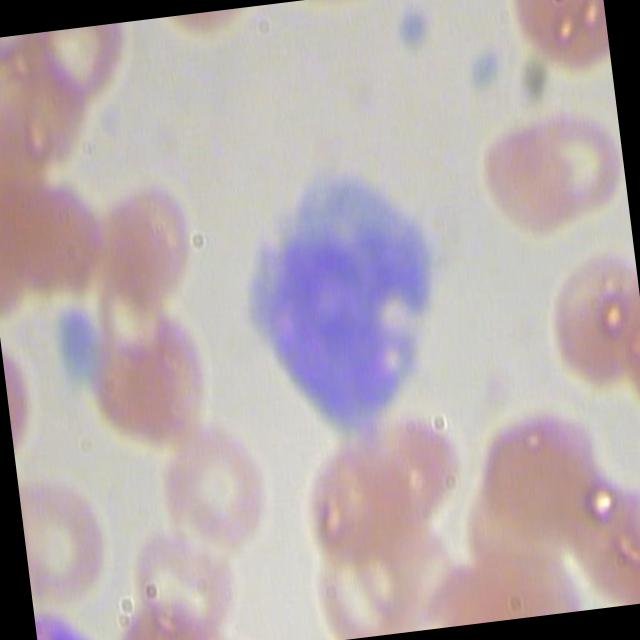Platelets: (455, 36, 506, 93), (44, 302, 94, 358), (389, 0, 440, 54)
RBC: (342, 400, 486, 566), (268, 420, 410, 586), (438, 106, 588, 260), (75, 295, 224, 450), (84, 154, 233, 309), (473, 383, 602, 547), (520, 232, 640, 396), (151, 417, 277, 572), (116, 494, 242, 640), (500, 88, 628, 226), (288, 511, 424, 640), (0, 165, 118, 312), (15, 457, 120, 609), (496, 0, 610, 87)
WBC: (222, 139, 469, 450)
